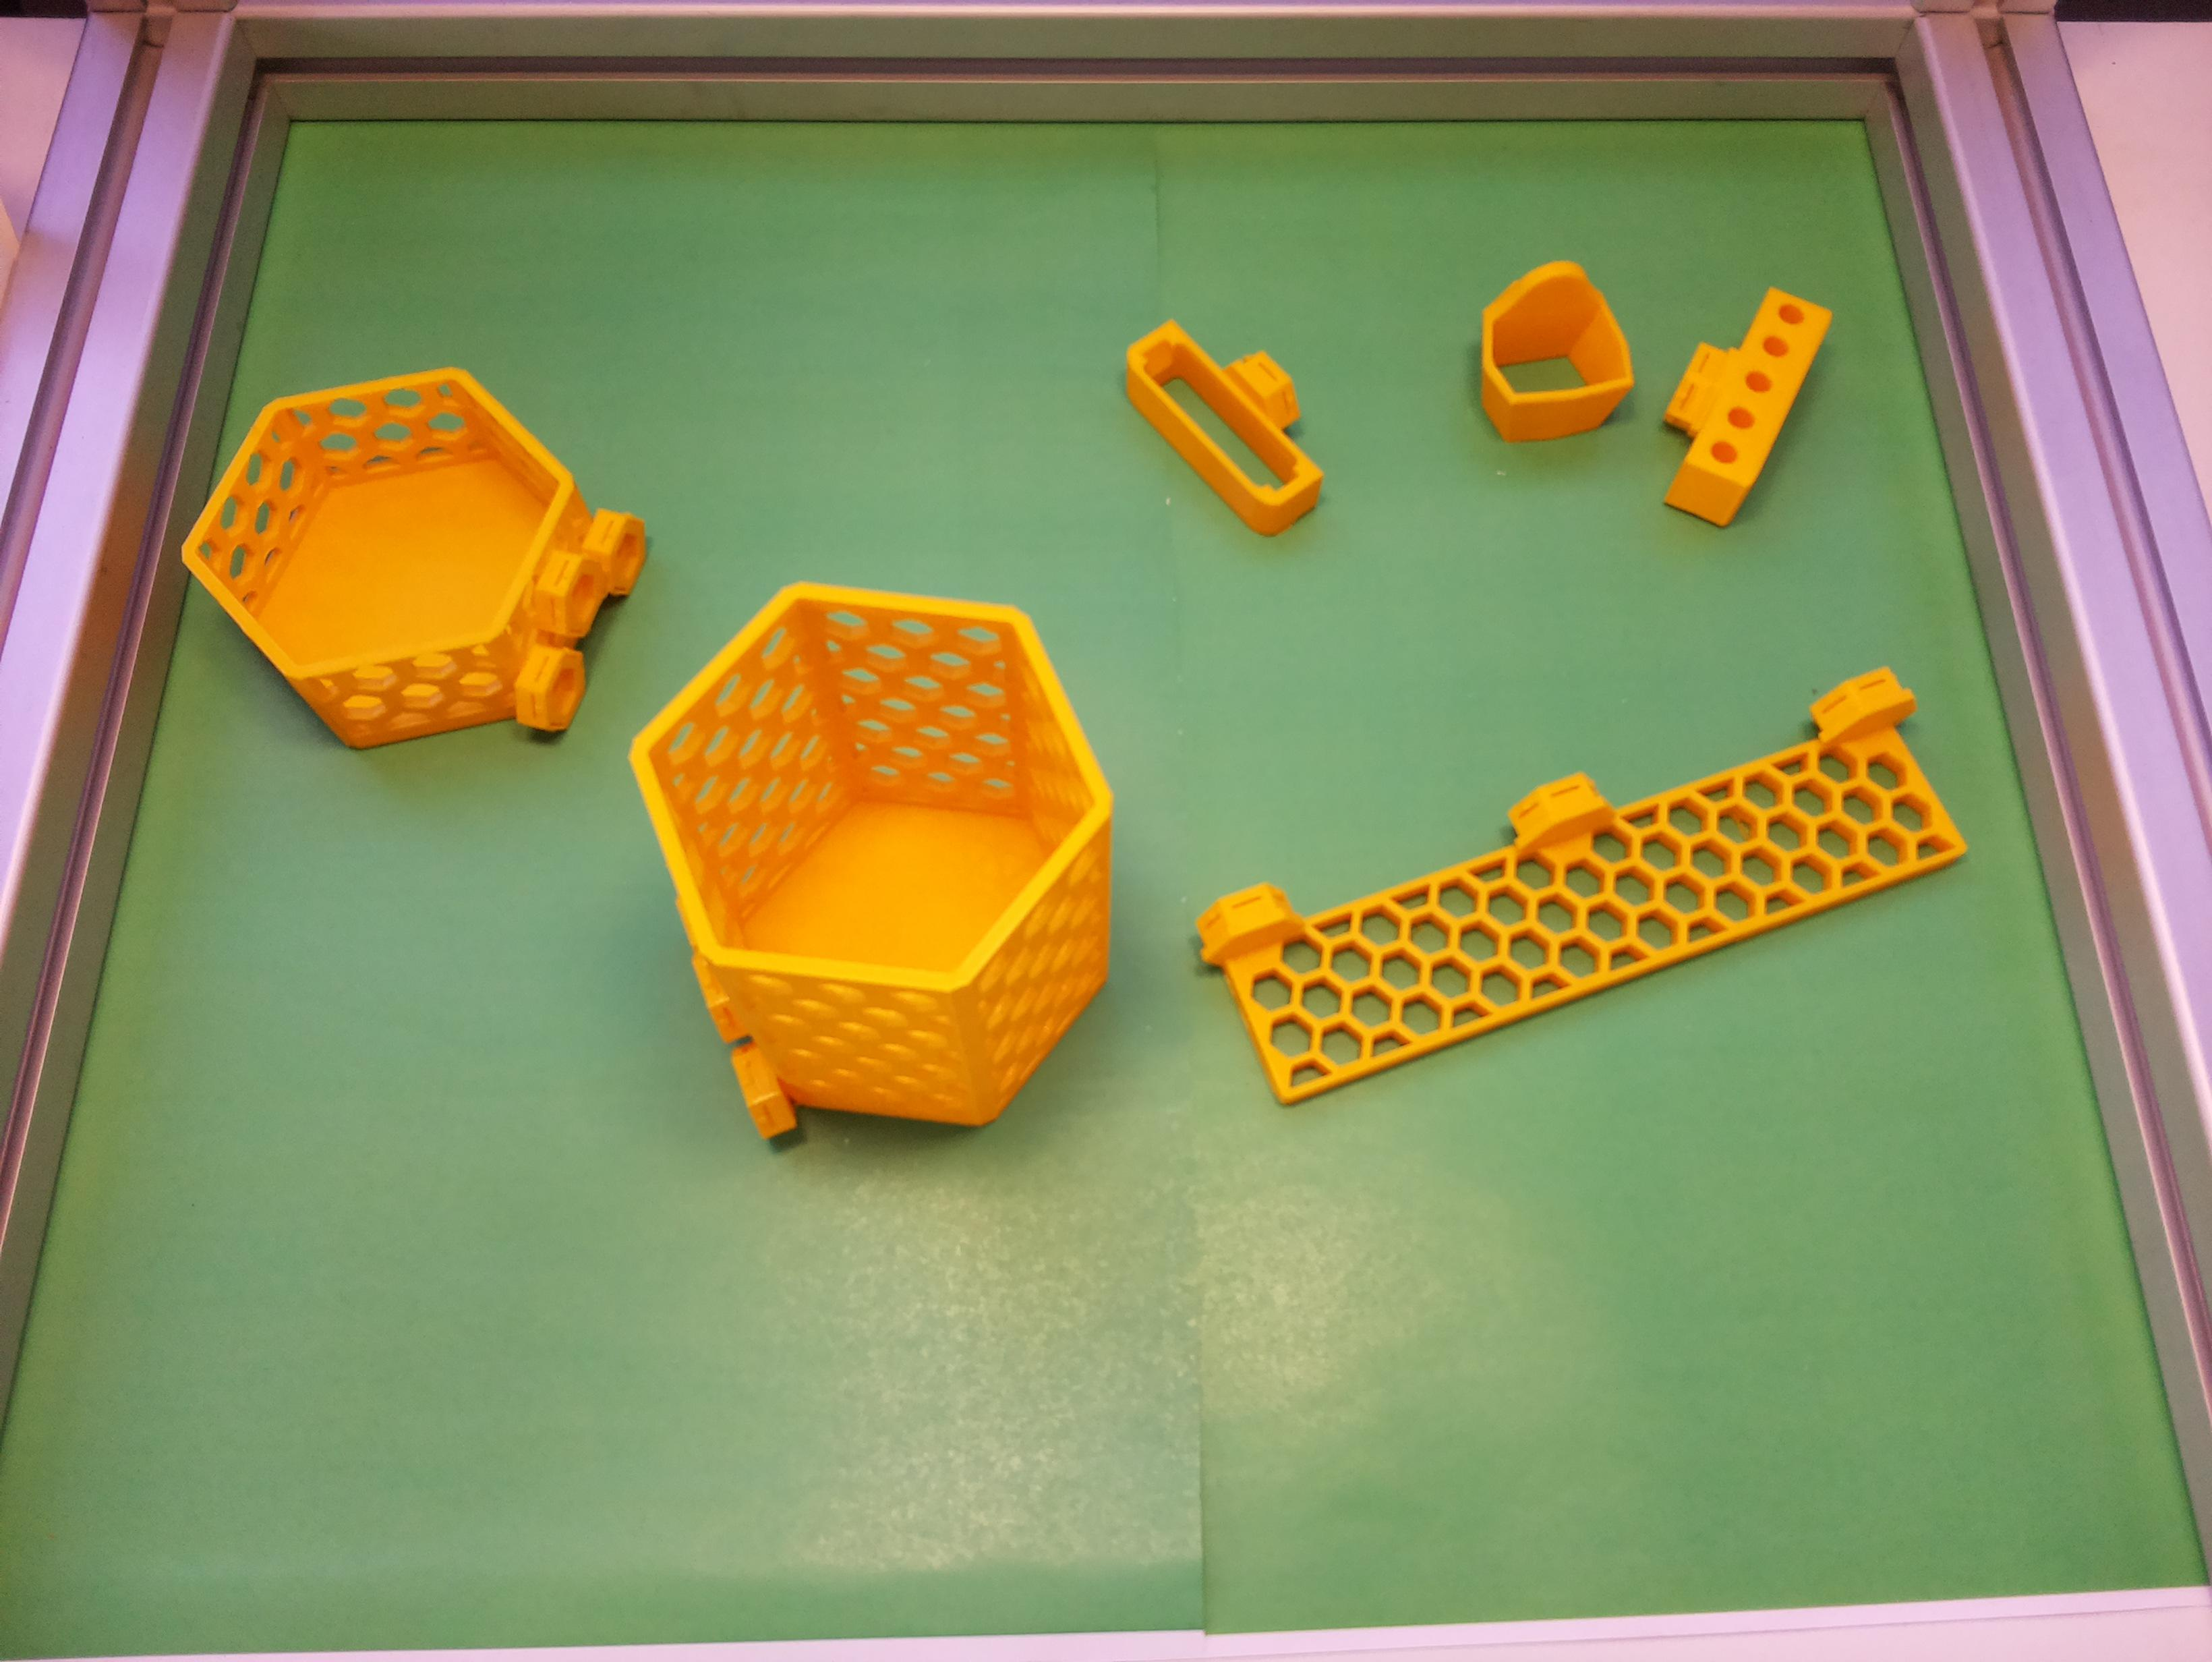bit_holder: (1631, 265, 1835, 534)
bottle_holder: (134, 288, 700, 845)
cup_holder: (595, 513, 1192, 1191)
cutter_holder: (1100, 283, 1365, 548)
scissor_holder: (1439, 248, 1655, 468)
tool_holder: (1187, 653, 1973, 1116)
